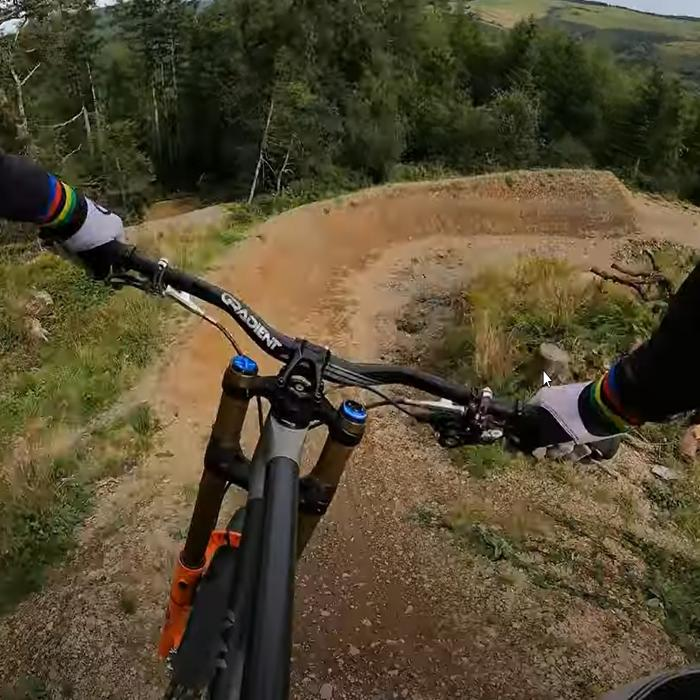jump: (234, 122, 659, 306)
